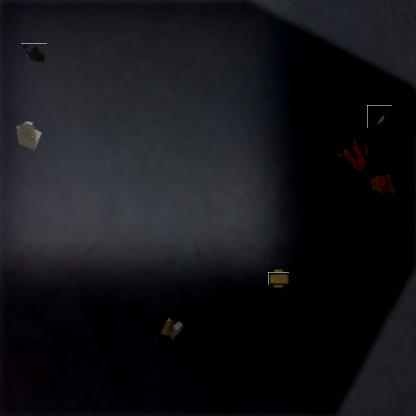dirty: (14, 119, 44, 151), (160, 315, 187, 341), (369, 172, 395, 198), (367, 105, 392, 128), (270, 270, 287, 287)
liquid: (340, 142, 366, 169), (21, 43, 47, 64)
